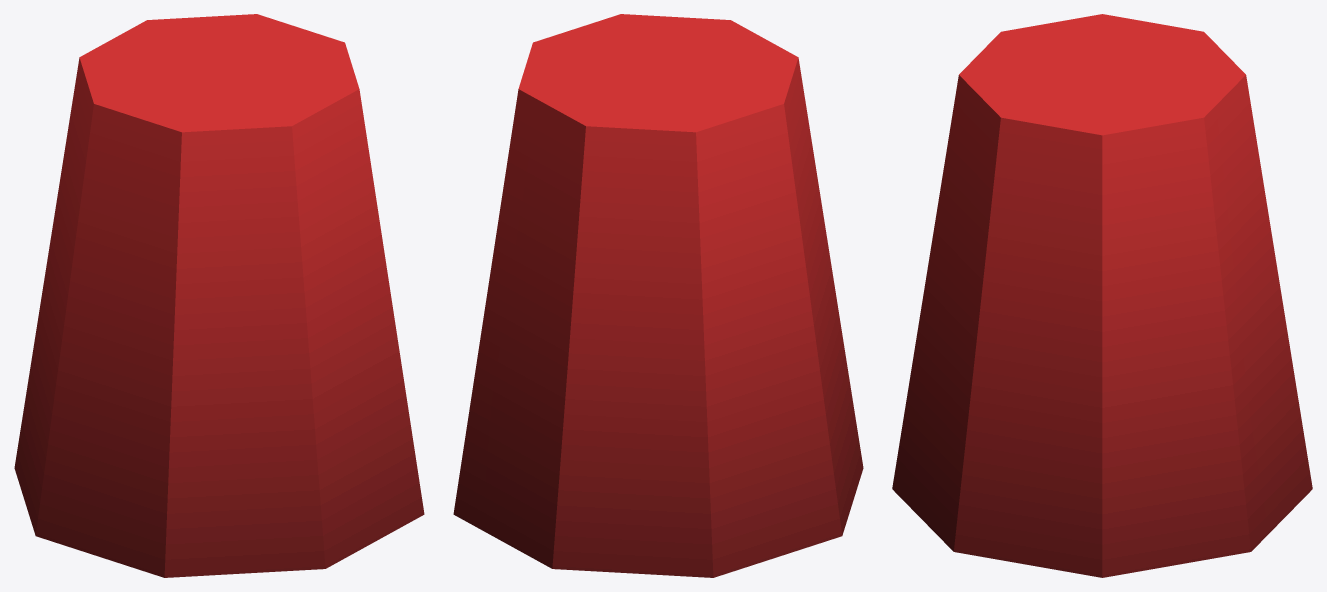
The model's file is PL002_Volcanic03.FBX.
The picture shows the model from 3 angles, left to right: view 1: azimuth 30°, elevation 25°; view 2: azimuth 150°, elevation 25°; view 3: azimuth 270°, elevation 25°; orthographic projection.
Parts seen in each view (by area): view 1: PL002_Volcanic03; view 2: PL002_Volcanic03; view 3: PL002_Volcanic03.
Part boxes in pixels (x1,y1,x2,y2): PL002_Volcanic03: (14,14,424,577); PL002_Volcanic03: (453,14,863,577); PL002_Volcanic03: (892,14,1312,577).
Bounding box in the file's own units: 223 × 242 × 223.
1 material, 1 textured.
